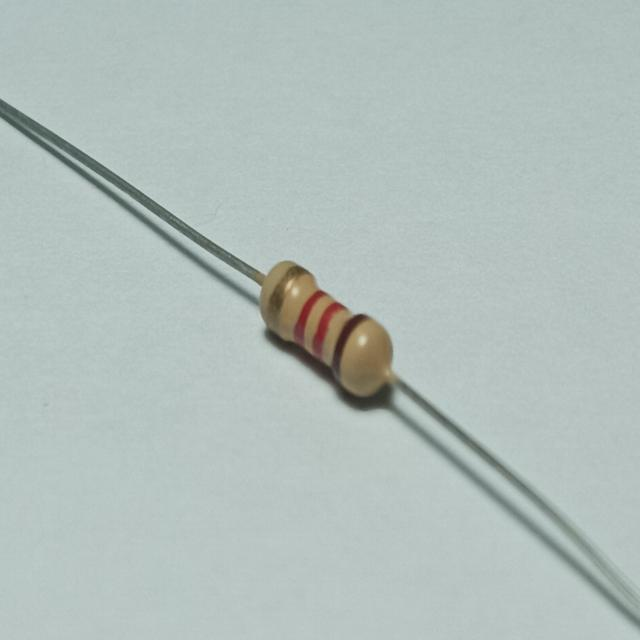1.2k ohms: (252, 258, 398, 400)
